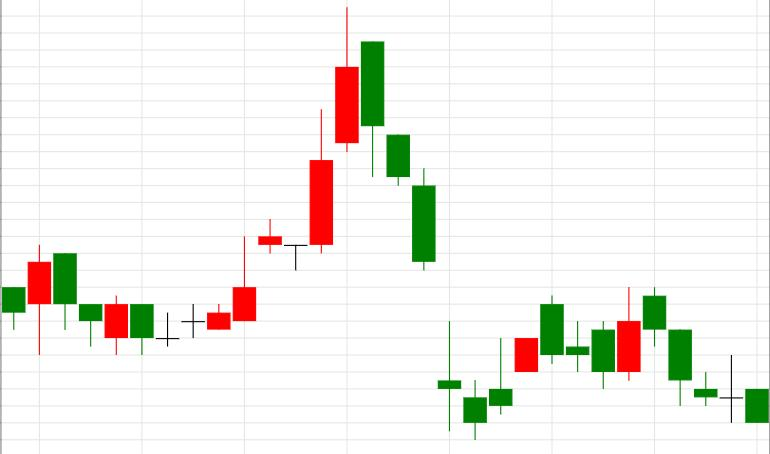three_black_crows_fall: (157, 8, 435, 346)
